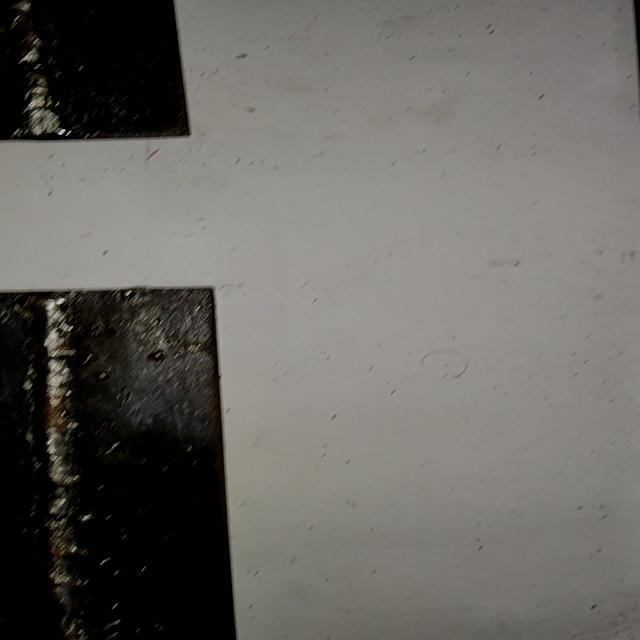Welding Line: (26, 293, 90, 640), (0, 0, 82, 139)
Workpiece: (0, 281, 237, 640), (0, 0, 200, 143)
